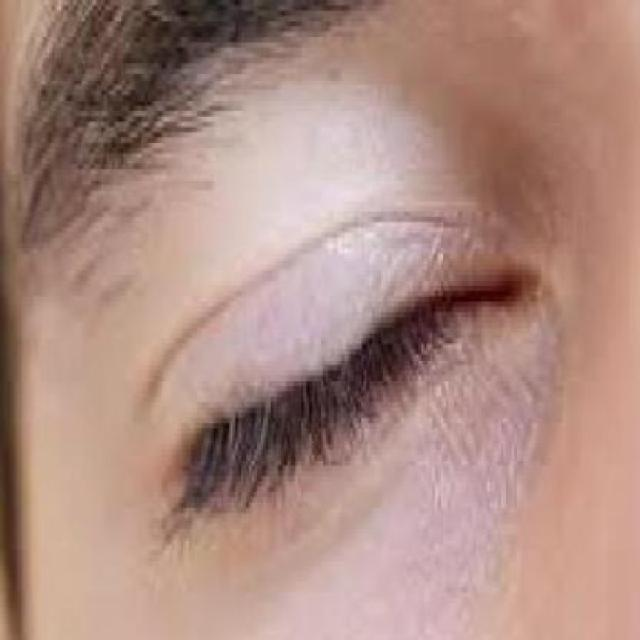drowsy: (148, 170, 530, 635)
